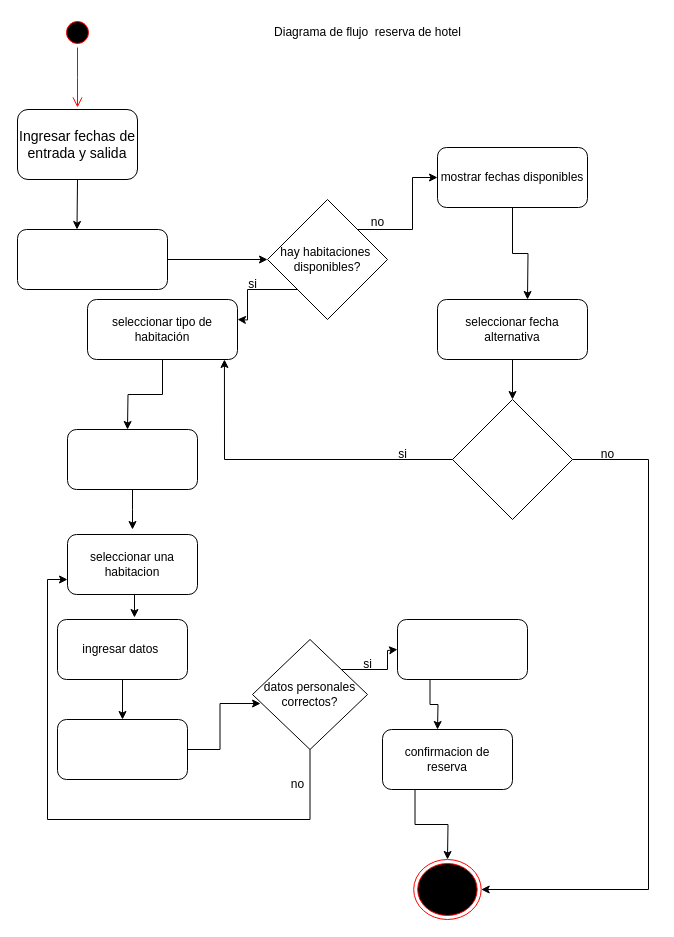
The diagram is 674 pixels wide and 937 high, and some of its shapes have lost their labels. Here are the shapes that lost their labels. From the top down, the box of each, then its label:
(16, 228, 168, 290): verificar disponibilidad
(66, 428, 198, 490): mostrar opciones disponibles
(452, 398, 572, 520): si hay fechas disponibles?
(396, 618, 528, 680): realizar pago
(56, 718, 188, 780): confirmar reserva
